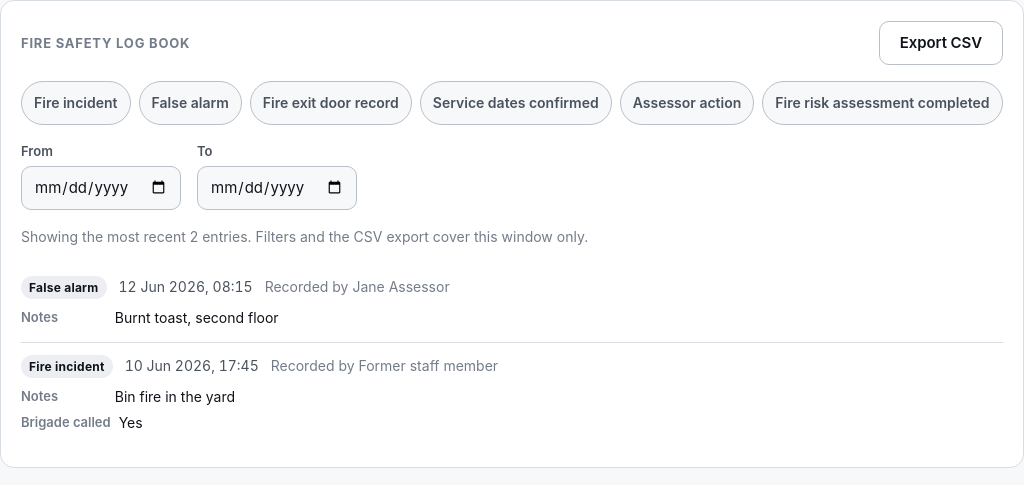
LogBookPanel › narrows entries with the kind filter chips
Click the button "Fire incident": (76, 103) [21,81,130,125]
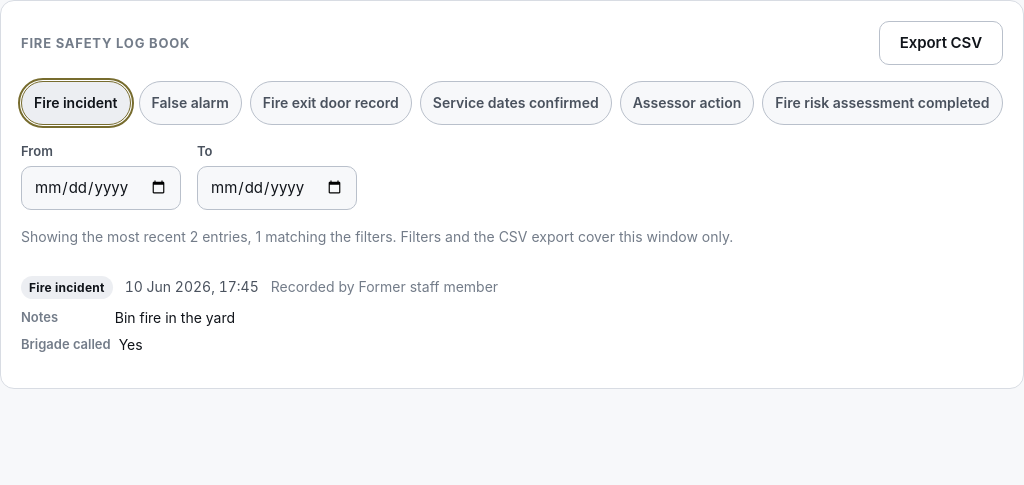
Expected: the text "Bin fire in the yard" is shown, [115,307,235,330]
Result: the text "Burnt toast, second floor" is gone
